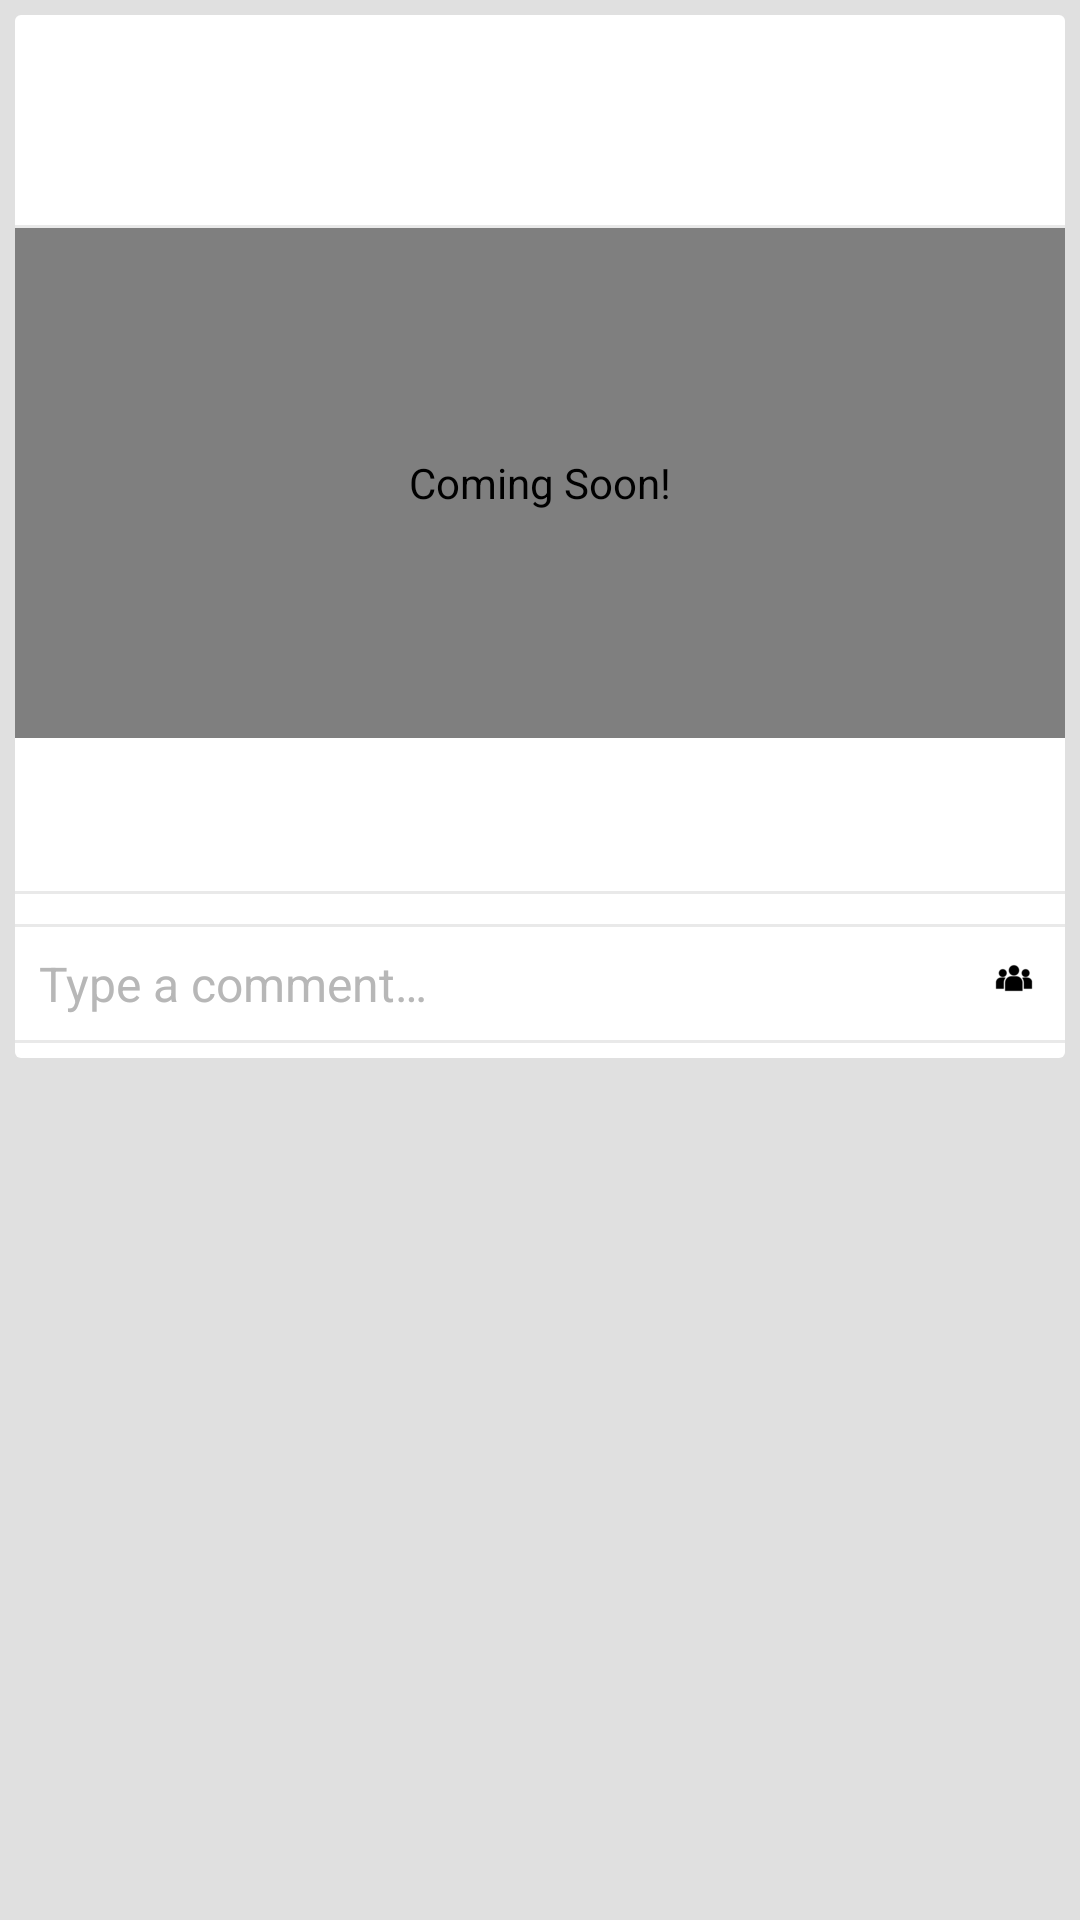

Locate icon controls on the screen. Image size 1080px×1920px, boxes as (x1, y1, x2, y2).
followers: (995, 965, 1033, 991)
